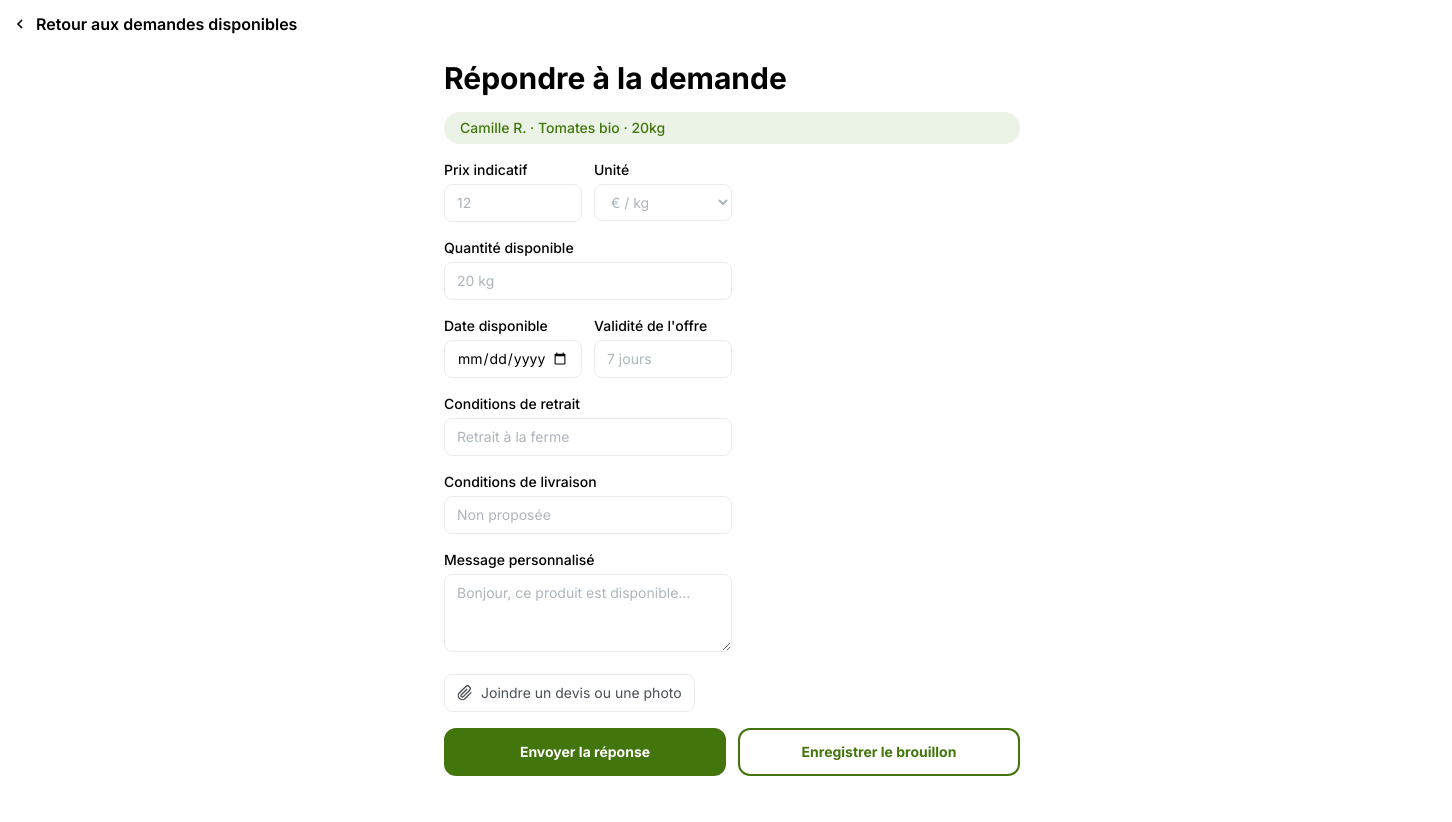
Test case: ReplyComponent › affiche le message du back quand l'envoi est refusé (abonnement, demande déjà traitée...)
This screenshot has width=1452, height=822.
Type "Oui" into the text box labelled "Message personnalisé". click: x=588, y=613
box: x1=444 y1=574 x2=732 y2=652
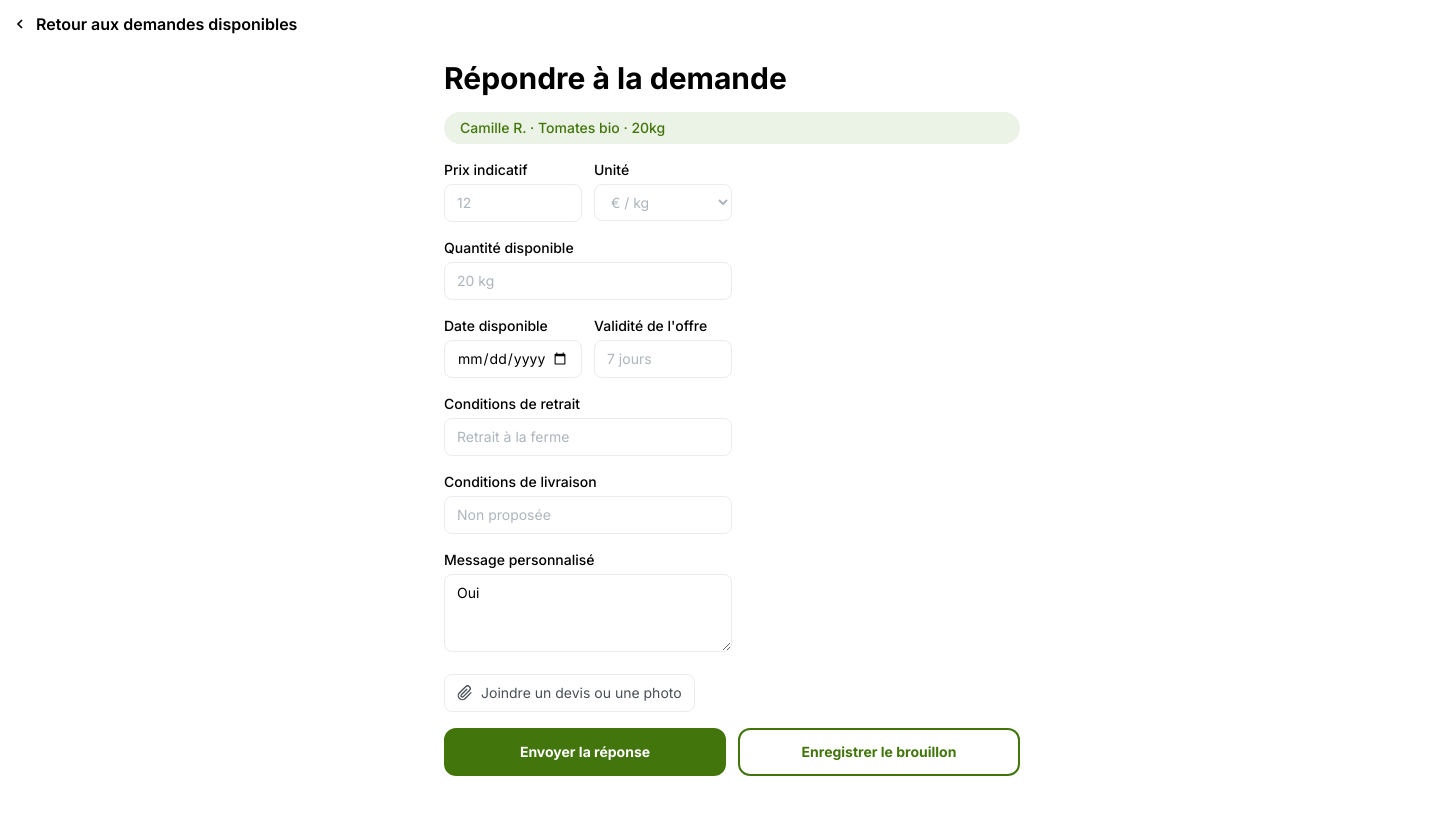
Click the button "Envoyer la réponse". click: x=585, y=752
box: x1=444 y1=728 x2=726 y2=776
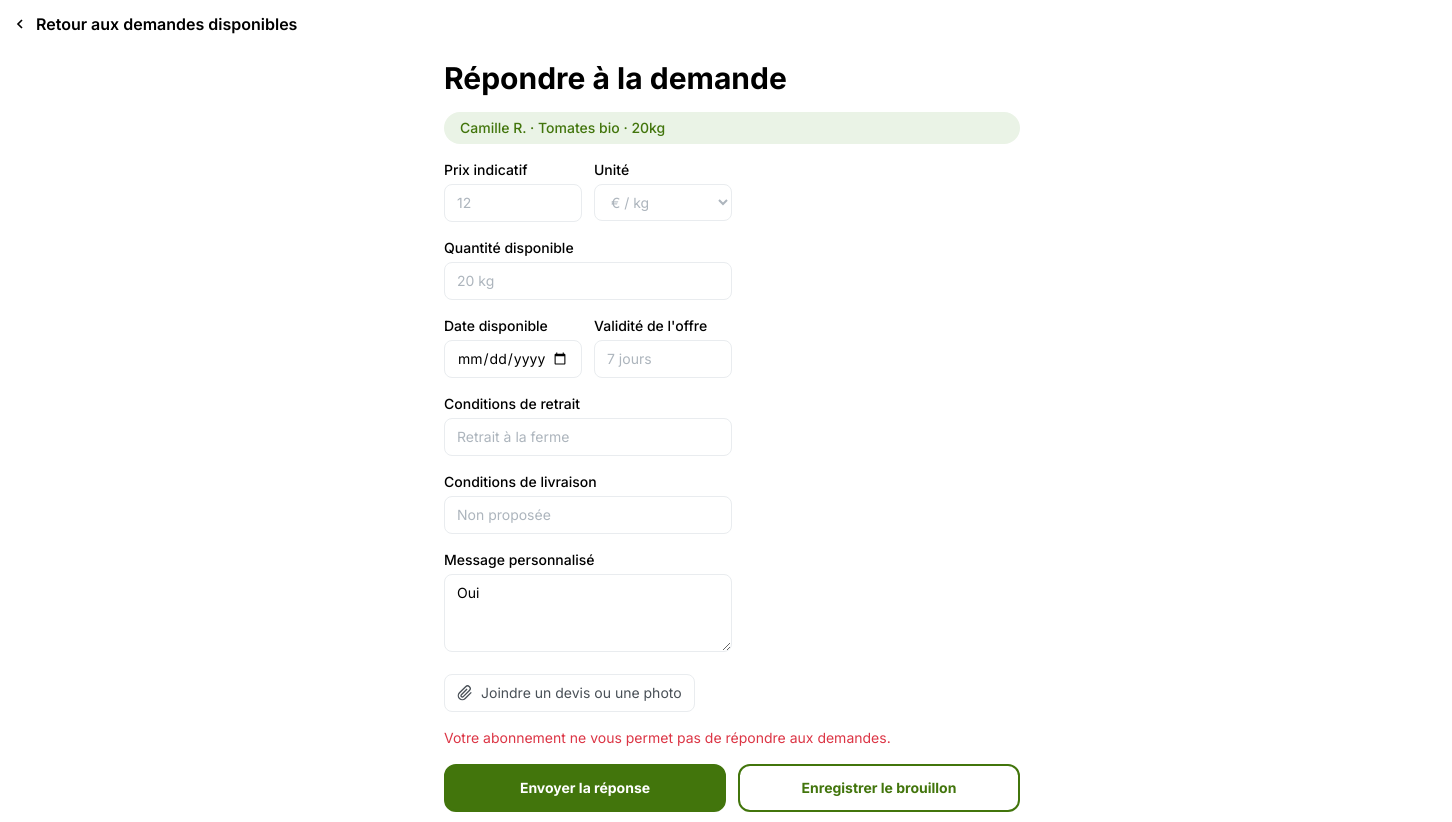
Check: the text "Votre abonnement ne vous permet pas de répondre aux demandes." is shown, box x1=444 y1=729 x2=891 y2=746
